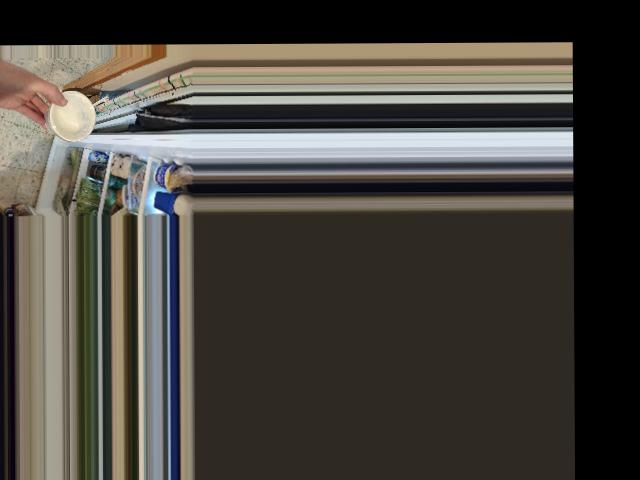cotage: (49, 93, 102, 143)
